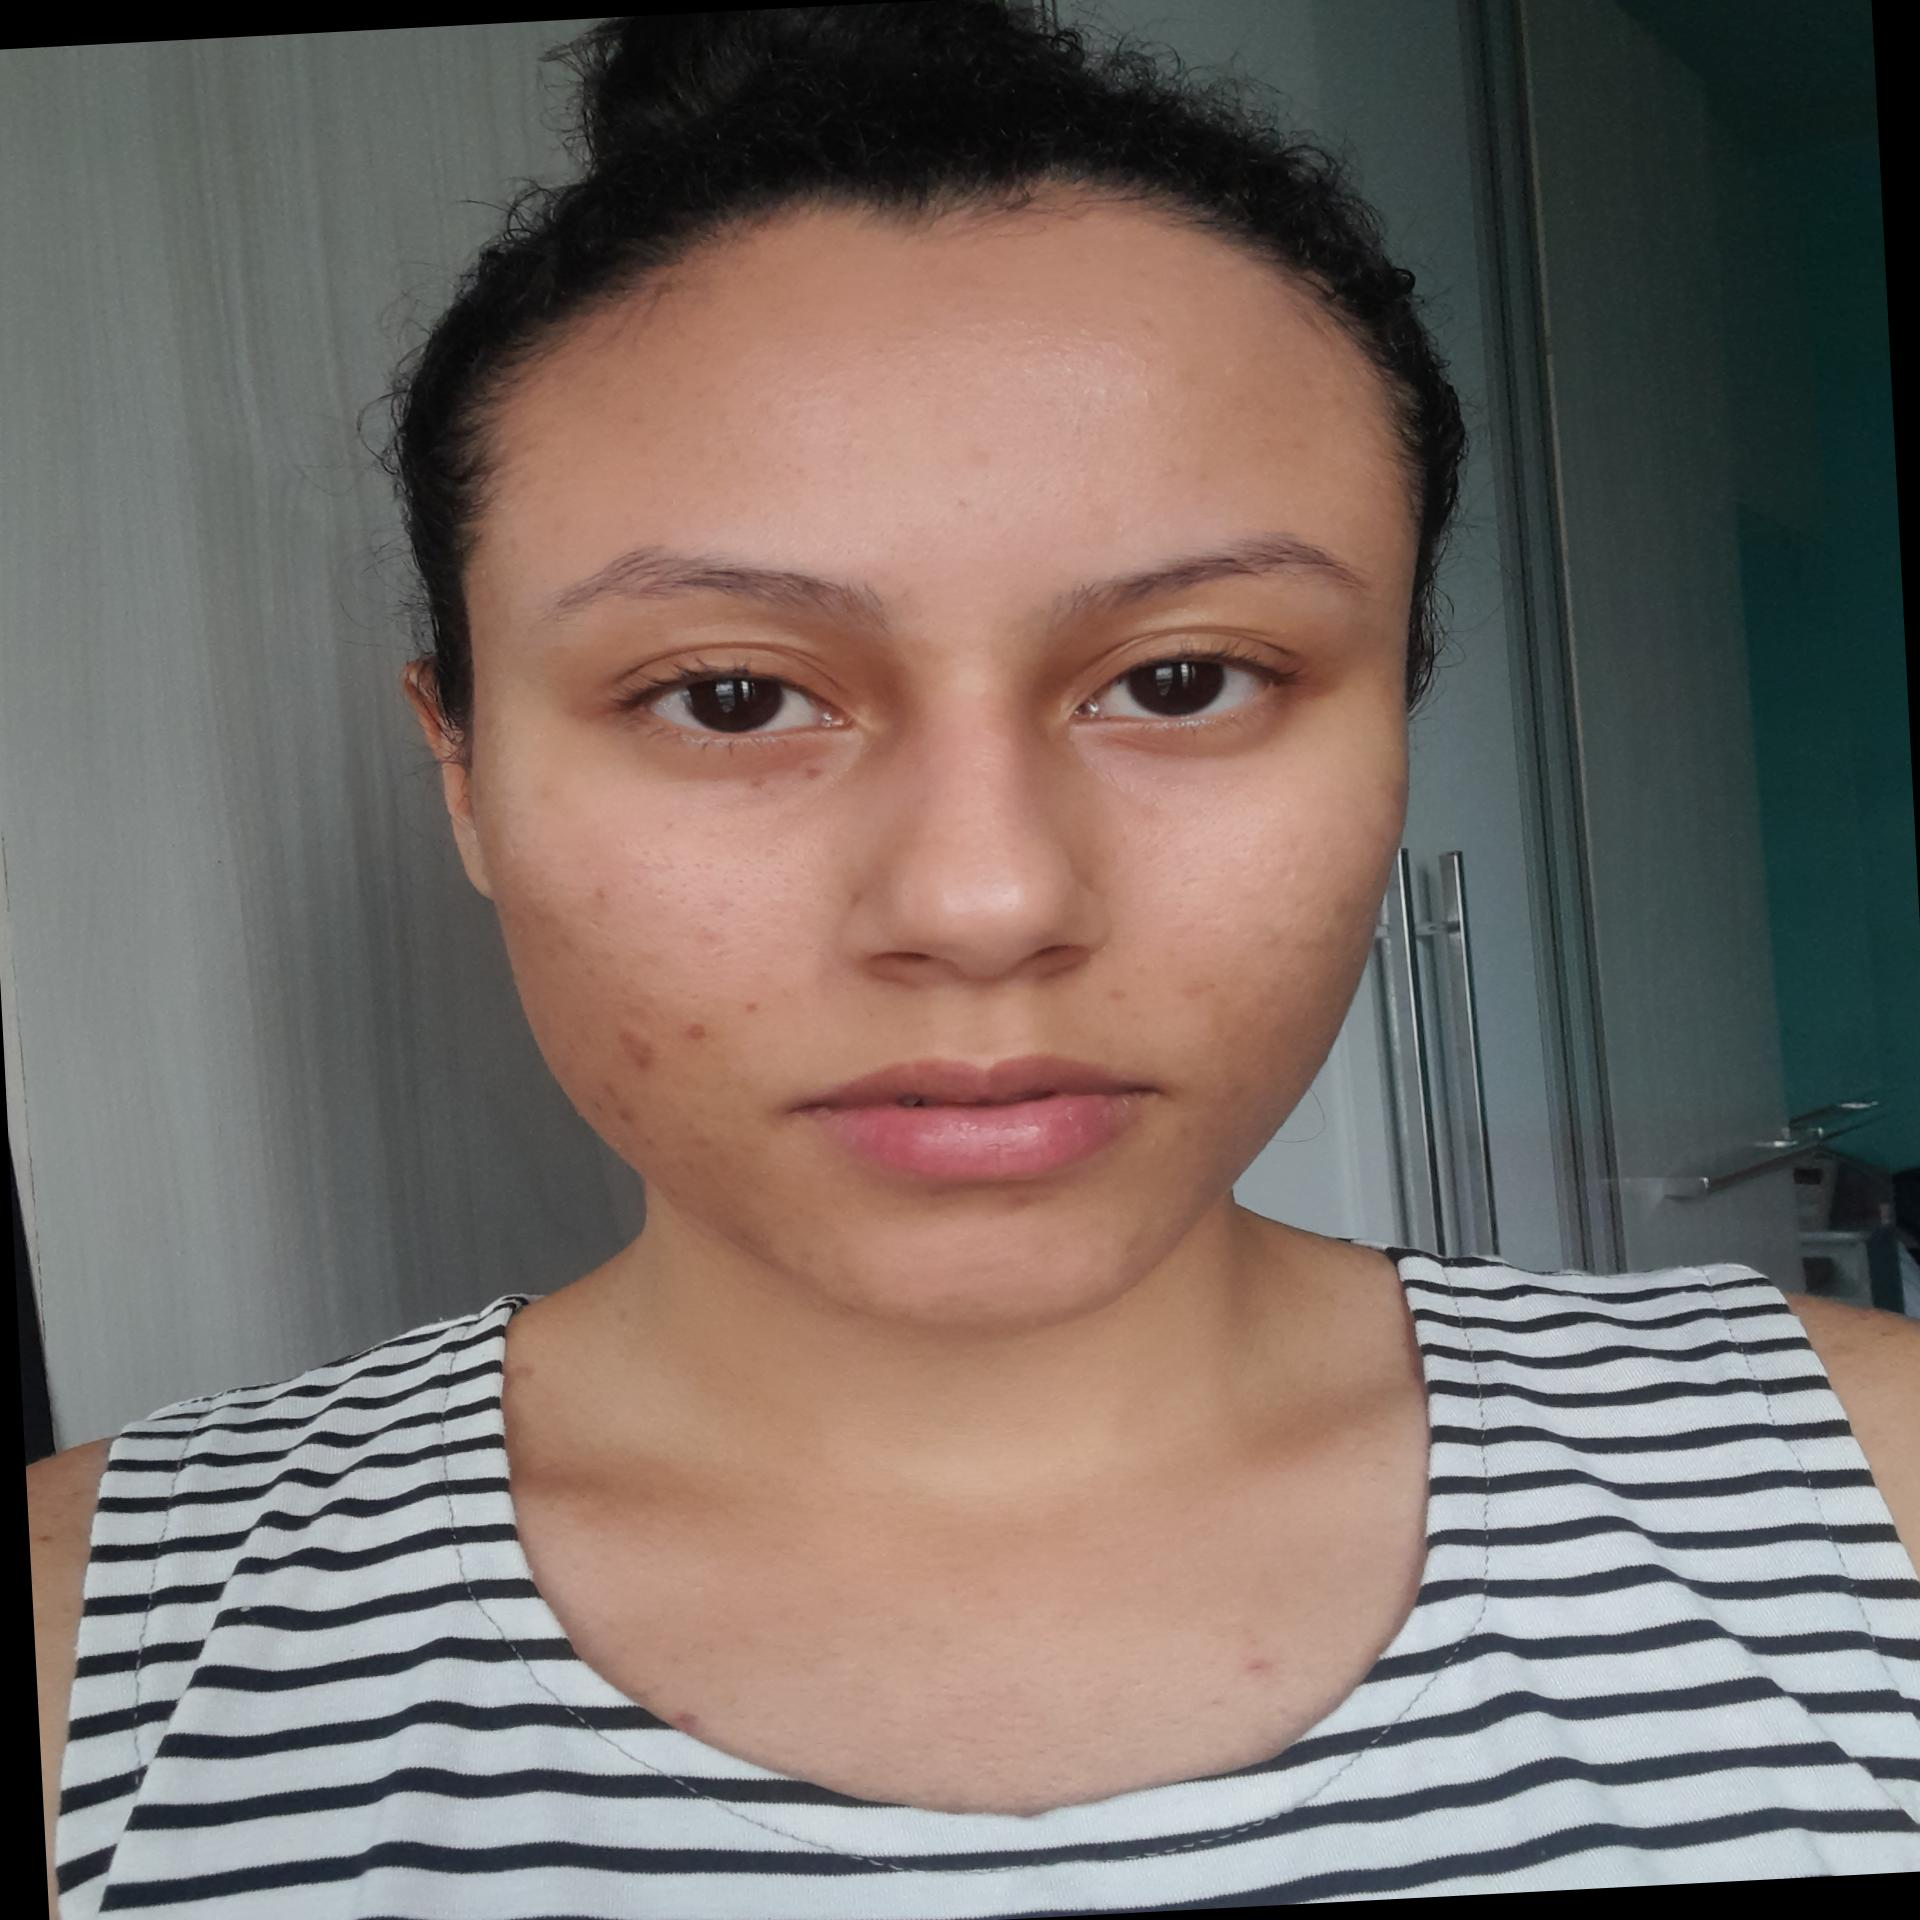Acne: (601, 1025, 663, 1067), (1176, 971, 1227, 1009), (594, 1083, 635, 1129), (1301, 928, 1342, 964), (695, 927, 735, 956), (1097, 986, 1143, 1013), (737, 993, 772, 1023), (1000, 1194, 1043, 1215), (1218, 1076, 1250, 1104), (691, 1131, 723, 1159), (948, 494, 976, 524), (547, 930, 580, 953), (675, 979, 707, 1002), (589, 881, 614, 909), (918, 1183, 951, 1203), (1173, 1120, 1201, 1143), (680, 1018, 712, 1037)
Englarged Pores: (638, 832, 828, 925), (1131, 805, 1285, 900)
